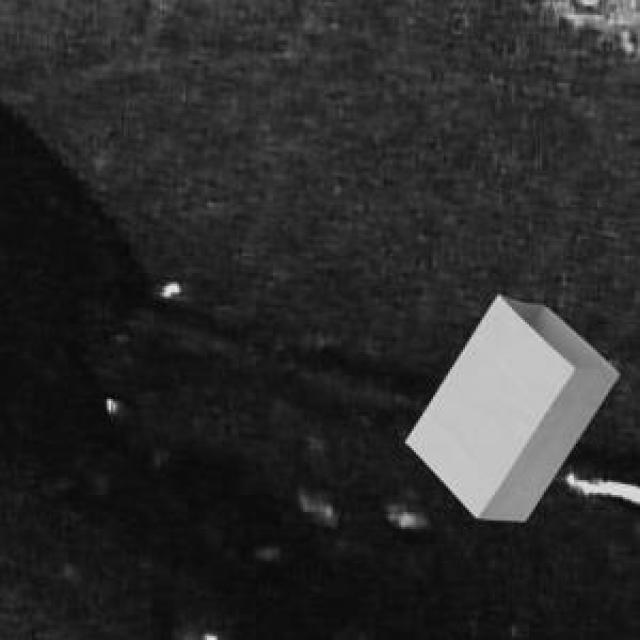paper: (401, 290, 614, 516)
